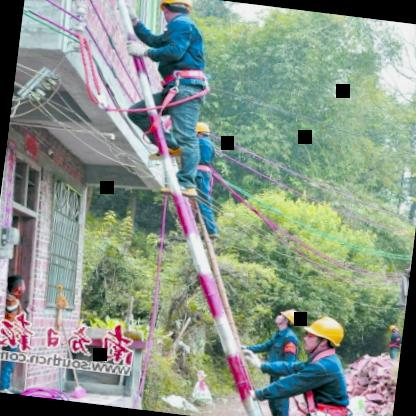head: (5, 269, 32, 297)
helmet: (301, 312, 347, 358), (268, 302, 301, 336), (159, 0, 196, 28), (185, 118, 214, 148)
